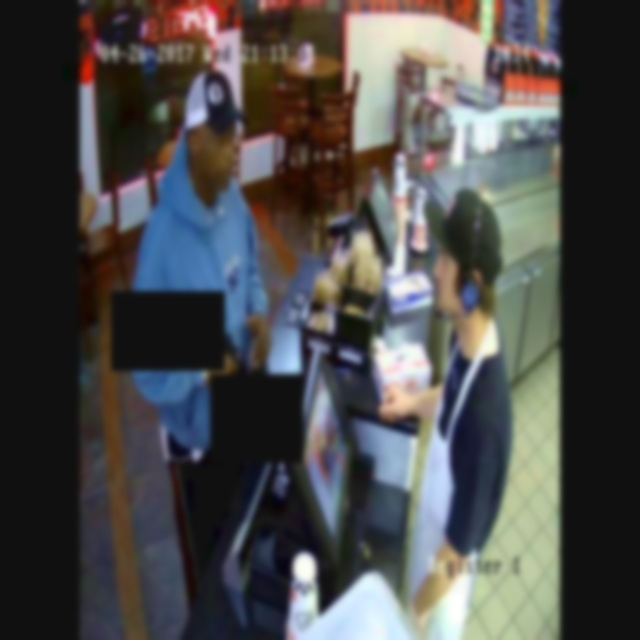gun: (198, 322, 266, 401)
